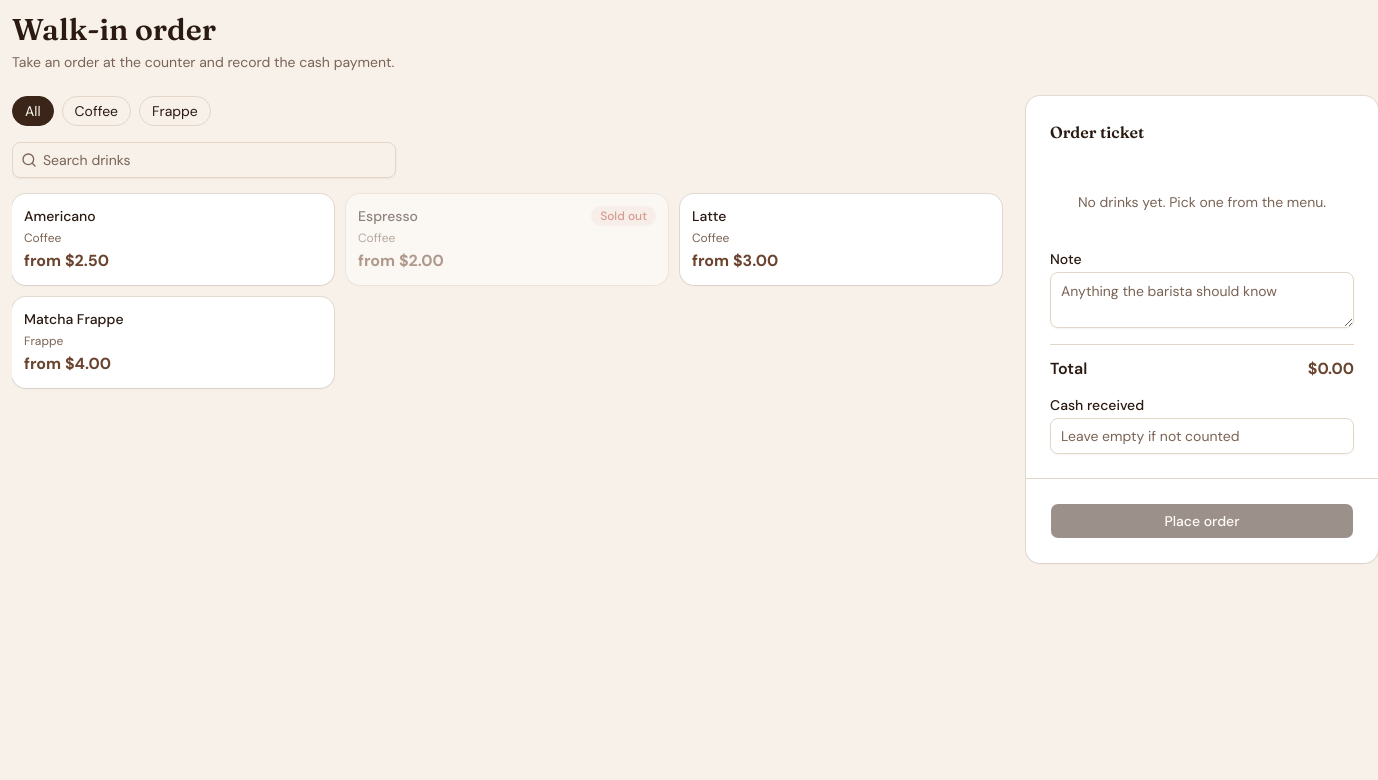
Test: WalkInPage (FR-23, FR-39, BR-13) › a category chip narrows the grid
Expected: the button "Latte Coffee from $3.00" is shown, [680,194,1002,285]
Click the button "Frappe" at (175, 111), box [139,96,211,126]
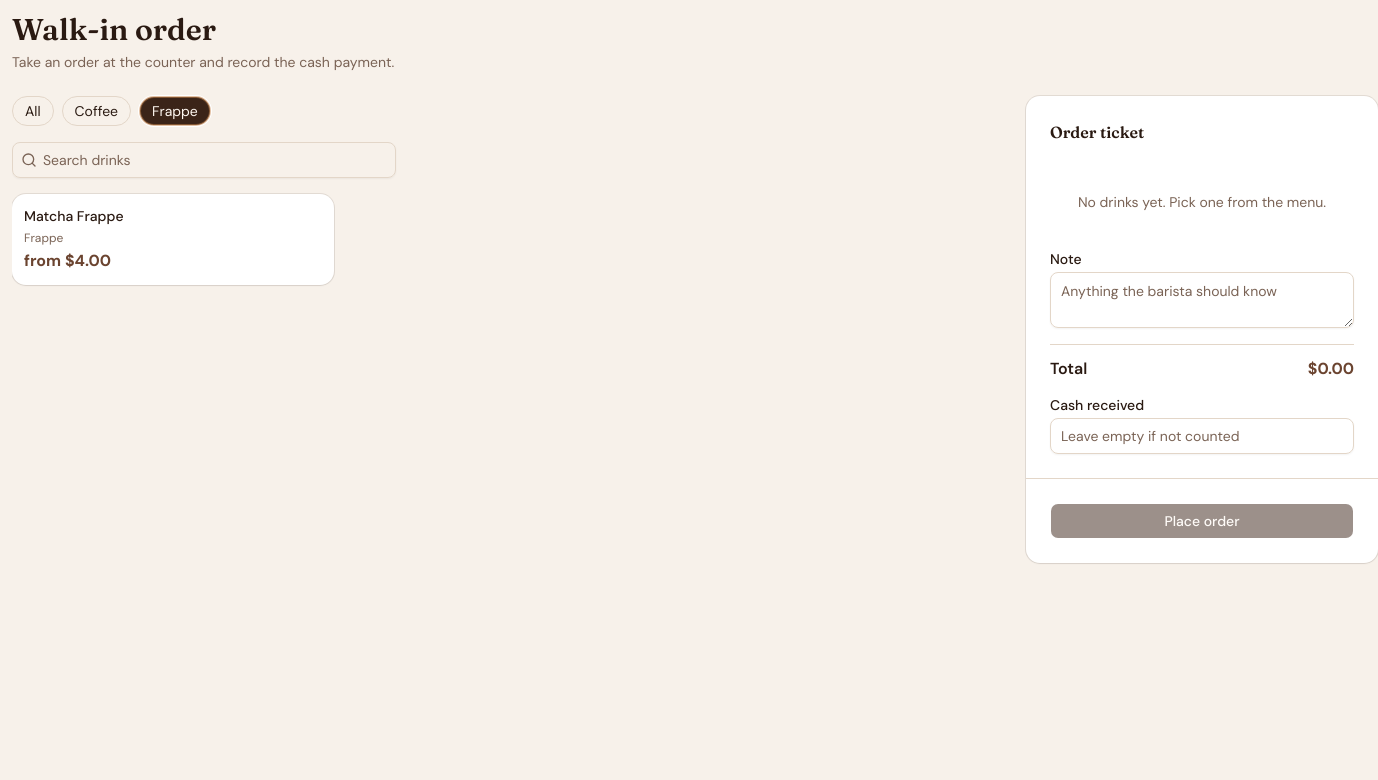
Expected: the button "Matcha Frappe Frappe from $4.00" is shown, [12,194,334,285]
Result: the button "Americano" is gone
